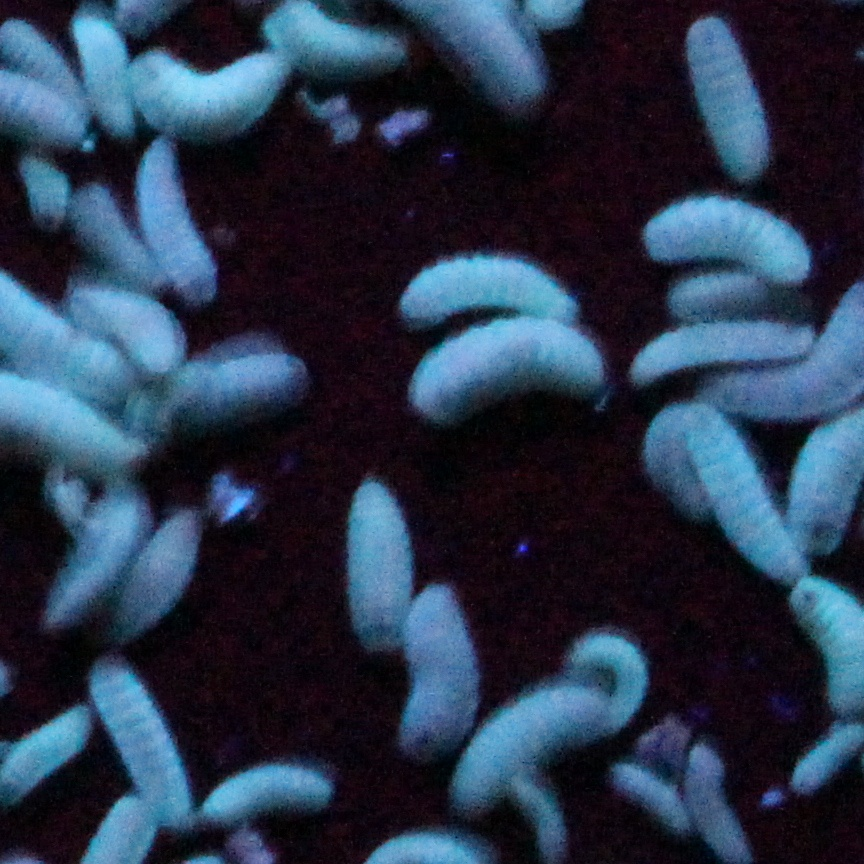larve: (407, 321, 610, 424), (682, 407, 800, 576), (463, 672, 616, 802), (627, 188, 810, 275), (338, 466, 417, 657), (88, 656, 187, 807), (39, 490, 145, 628), (401, 587, 483, 757), (681, 17, 769, 174), (395, 248, 583, 321), (132, 56, 287, 134), (137, 147, 219, 290), (149, 359, 313, 424), (272, 3, 413, 78), (131, 512, 213, 630), (630, 316, 813, 368), (66, 2, 140, 127), (212, 757, 332, 823)
